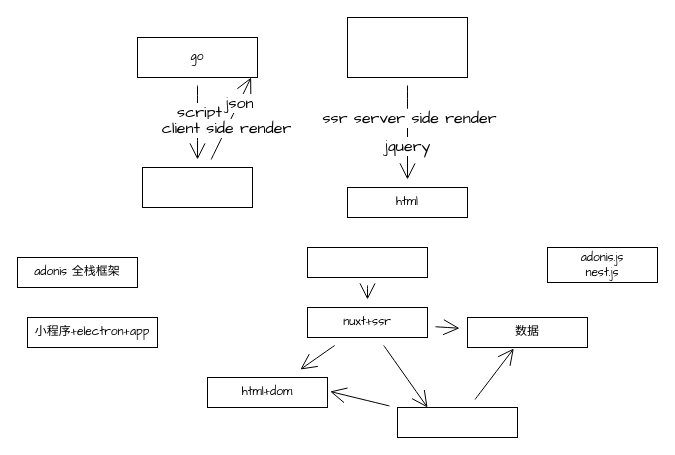
The diagram is 675 pixels wide and 455 high, and some of its shapes have lost their labels. The shapes that lost their labels are listed below. From the top down, each one's centre as x and y in pixels, then its label:
At (407,47): "jsp/asp/php blade smarty 后端渲染".
At (197,187): "vue、react".
At (367,262): "混合渲染 nuxt+next".
At (457,422): "vue".
